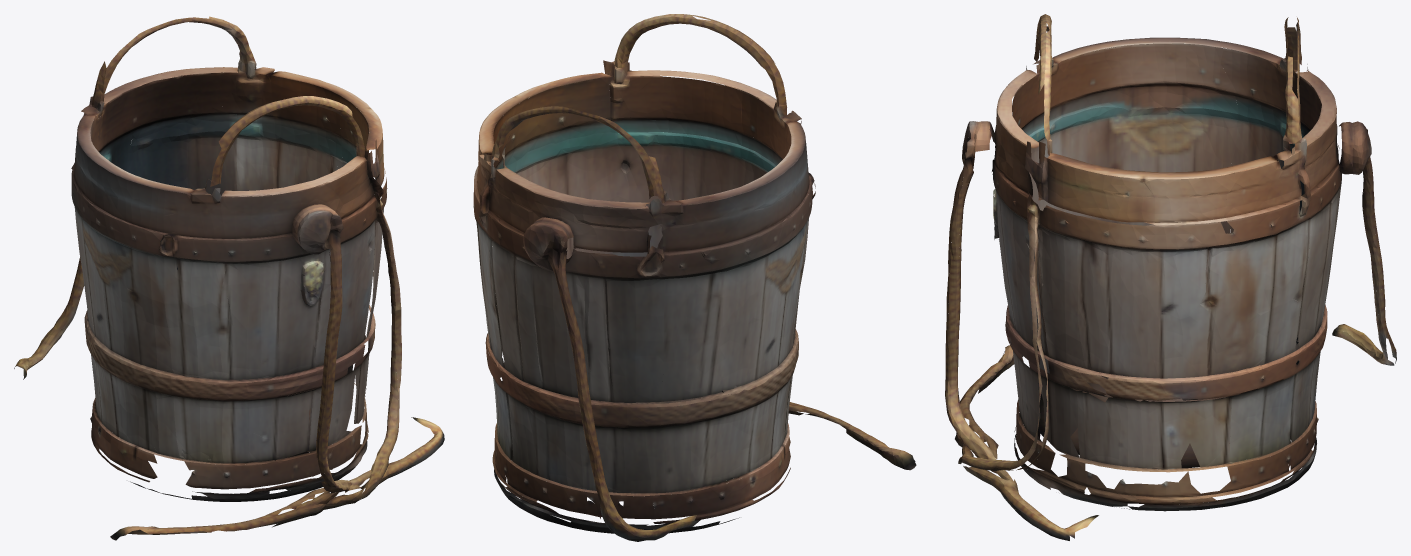
Rendered from prop_bucket.glb.
3 renders of one model, left to right at view 1: azimuth 30°, elevation 25°; view 2: azimuth 150°, elevation 25°; view 3: azimuth 270°, elevation 25°, orthographic. The views are drawn at different scales.
Parts seen in each view (by area): view 1: world; view 2: world; view 3: world.
Part boxes in pixels (bbox=[...]): world: bbox=[14, 16, 444, 540]; world: bbox=[473, 14, 916, 541]; world: bbox=[945, 14, 1396, 540].
Bounding box in the file's own units: 0.9693 × 1 × 0.9705.
1 material, 1 textured.
